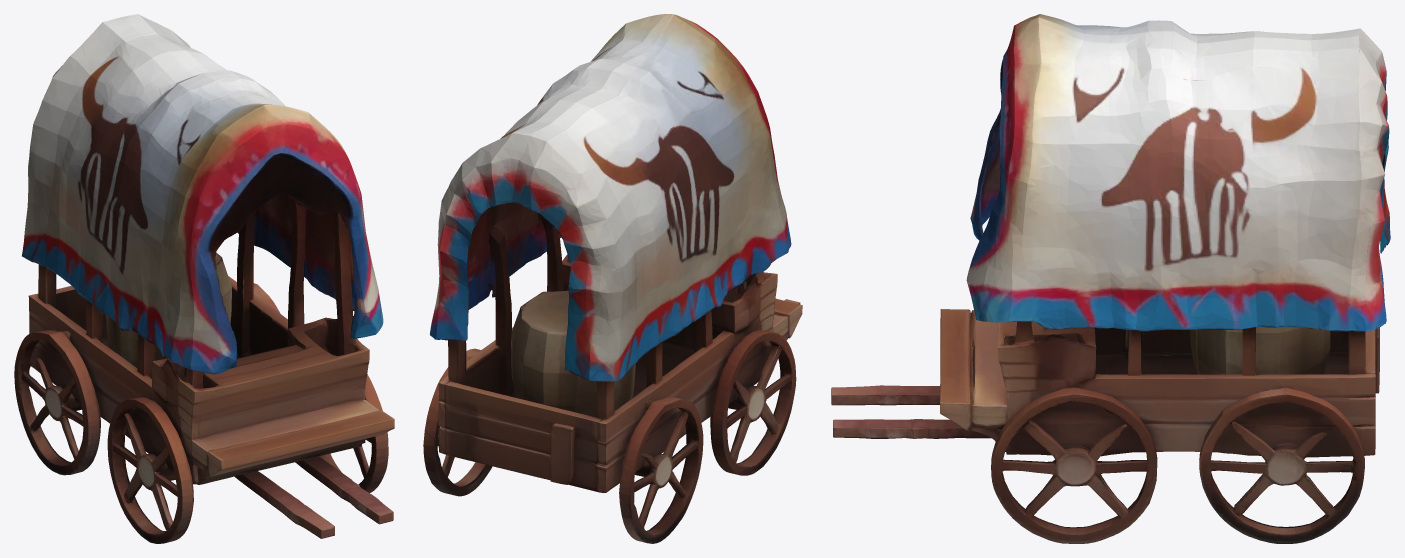
File: partflow_t01.glb
The picture shows the model from 3 angles, left to right: view 1: azimuth 30°, elevation 25°; view 2: azimuth 150°, elevation 25°; view 3: azimuth 270°, elevation 25°; orthographic projection. The views are drawn at different scales.
Visible parts, largest first — view 1: geometry_0; view 2: geometry_0; view 3: geometry_0.
Boxes of the visible parts, <box> form: geometry_0: <box>14,14,394,543</box>; geometry_0: <box>423,14,802,543</box>; geometry_0: <box>831,14,1390,543</box>.
Size of the model in its own units: 0.9627 by 1.86 by 2.
1 material, 1 textured.
